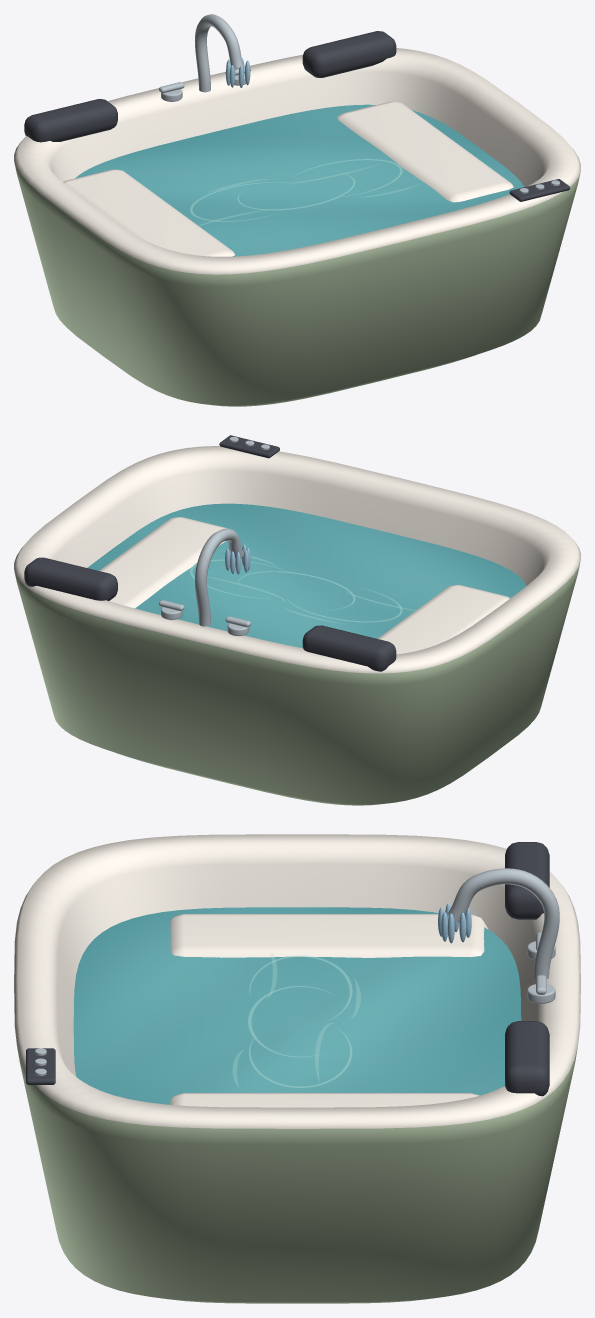
Rendered from bathroomJacuzziSage.glb.
3 renders of one model, top to bottom at view 1: azimuth 30°, elevation 25°; view 2: azimuth 150°, elevation 25°; view 3: azimuth 270°, elevation 25°, orthographic. The views are drawn at different scales.
Parts seen in each view (by area): view 1: Jetted tub shell, Recessed bath water, Jacuzzi seat ledge.001, Jacuzzi seat ledge, Jacuzzi headrest.001, Jacuzzi headrest, Bath gooseneck faucet, Jacuzzi control panel; view 2: Jetted tub shell, Recessed bath water, Jacuzzi seat ledge.001, Jacuzzi seat ledge, Jacuzzi headrest, Jacuzzi headrest.001, Bath gooseneck faucet, Jacuzzi control panel; view 3: Jetted tub shell, Recessed bath water, Jacuzzi seat ledge, Jacuzzi seat ledge.001, Bath gooseneck faucet, Jacuzzi headrest.001, Jacuzzi headrest, Jacuzzi control panel.
Boxes of the visible parts, x1=… form: Jetted tub shell: x1=14, y1=48, x2=580, y2=406; Recessed bath water: x1=75, y1=104, x2=523, y2=256; Jacuzzi seat ledge.001: x1=337, y1=101, x2=513, y2=202; Jacuzzi seat ledge: x1=63, y1=169, x2=234, y2=256; Jacuzzi headrest.001: x1=302, y1=31, x2=396, y2=77; Jacuzzi headrest: x1=24, y1=99, x2=117, y2=142; Bath gooseneck faucet: x1=195, y1=14, x2=243, y2=92; Jacuzzi control panel: x1=509, y1=179, x2=570, y2=201; Jetted tub shell: x1=14, y1=446, x2=580, y2=805; Recessed bath water: x1=87, y1=503, x2=526, y2=648; Jacuzzi seat ledge.001: x1=99, y1=517, x2=228, y2=608; Jacuzzi seat ledge: x1=377, y1=585, x2=510, y2=654; Jacuzzi headrest: x1=302, y1=625, x2=396, y2=671; Jacuzzi headrest.001: x1=24, y1=557, x2=117, y2=600; Bath gooseneck faucet: x1=195, y1=528, x2=243, y2=626; Jacuzzi control panel: x1=219, y1=435, x2=279, y2=458; Jetted tub shell: x1=14, y1=834, x2=580, y2=1303; Recessed bath water: x1=73, y1=907, x2=521, y2=1104; Jacuzzi seat ledge: x1=170, y1=914, x2=488, y2=957; Jacuzzi seat ledge.001: x1=170, y1=1093, x2=479, y2=1107; Bath gooseneck faucet: x1=448, y1=868, x2=559, y2=979; Jacuzzi headrest.001: x1=505, y1=1021, x2=549, y2=1096; Jacuzzi headrest: x1=505, y1=842, x2=549, y2=919; Jacuzzi control panel: x1=26, y1=1048, x2=55, y2=1084.
Bounding box in the file's own units: 2.3 × 1.2 × 1.9.
